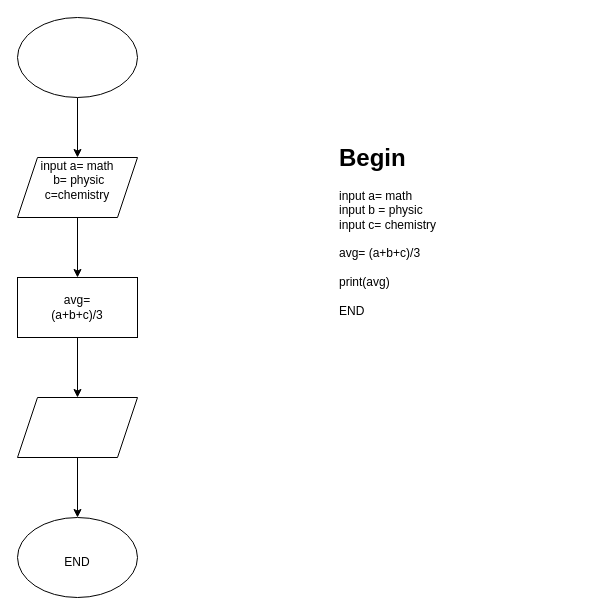
Some shapes in this 615 by 615 pixel diagram are drawn without their labels. The shapes that lost their labels are listed below. From the top down, each one's box as (x1, y1, x2, y2) in pixels, then its label:
(16, 16, 138, 98): Begin
(16, 396, 138, 458): print average
